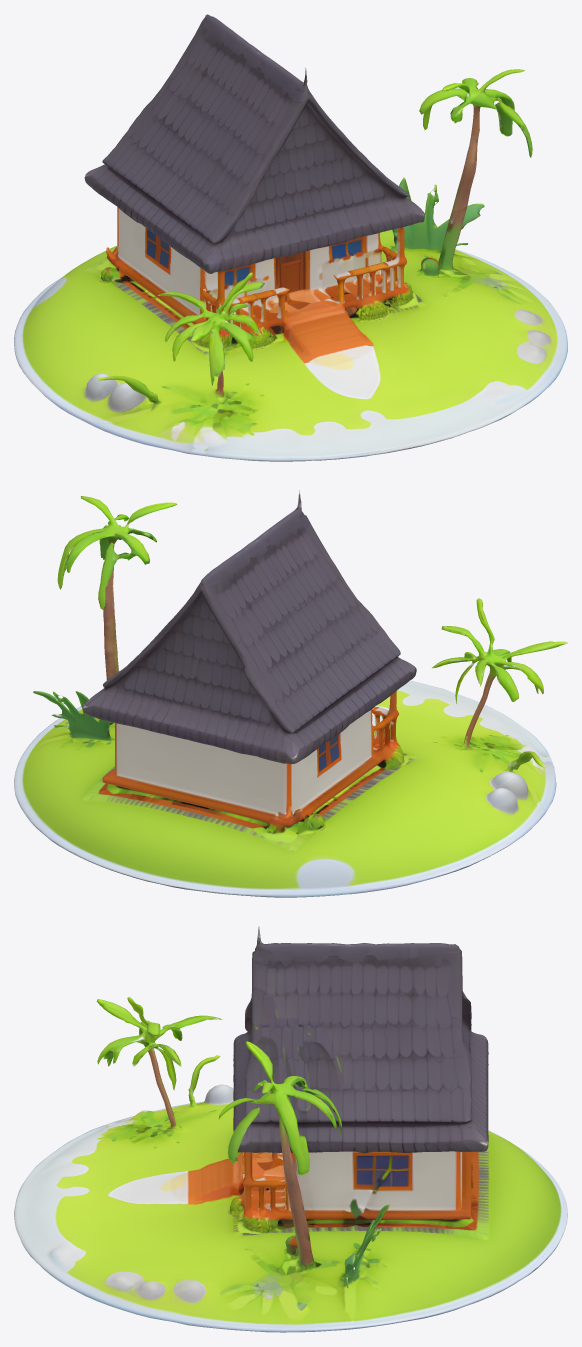
Rendered from Desa1.glb.
3 renders of one model, top to bottom at view 1: azimuth 30°, elevation 25°; view 2: azimuth 150°, elevation 25°; view 3: azimuth 270°, elevation 25°, orthographic. The views are drawn at different scales.
Visible parts, largest first — view 1: model; view 2: model; view 3: model.
Boxes of the visible parts, x1,y1,x2,y2 form: model: (14,14,567,461); model: (14,490,567,897); model: (14,926,567,1332).
Bounding box in the file's own units: 1.9 × 1.1 × 1.9.
Materials: 1 (1 with a texture image).
